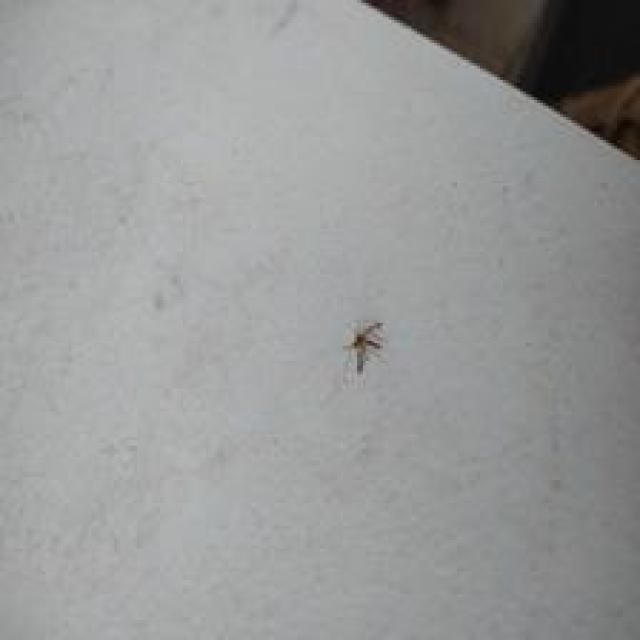Culex: (342, 320, 384, 374)
